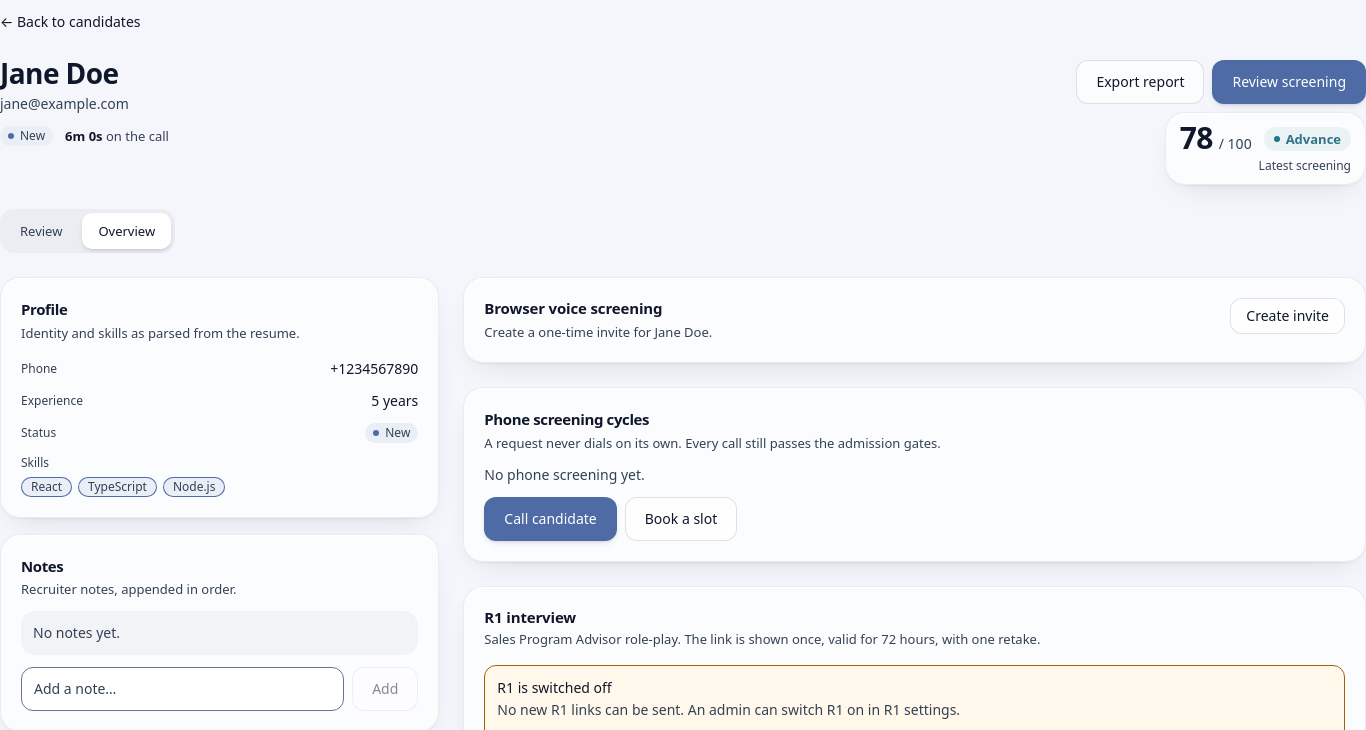
Test: CandidateDetailPage › C8: a same-role duplicate-application hold › a request answered duplicate_application shows recruiter copy, not the raw code
Check: the heading "Jane Doe" is shown, box x1=0 y1=54 x2=118 y2=92
What coordinates should you click on to do the following:
click the button "Call candidate"
I would click on:
 (550, 518)
Its box is x1=484 y1=496 x2=617 y2=540.
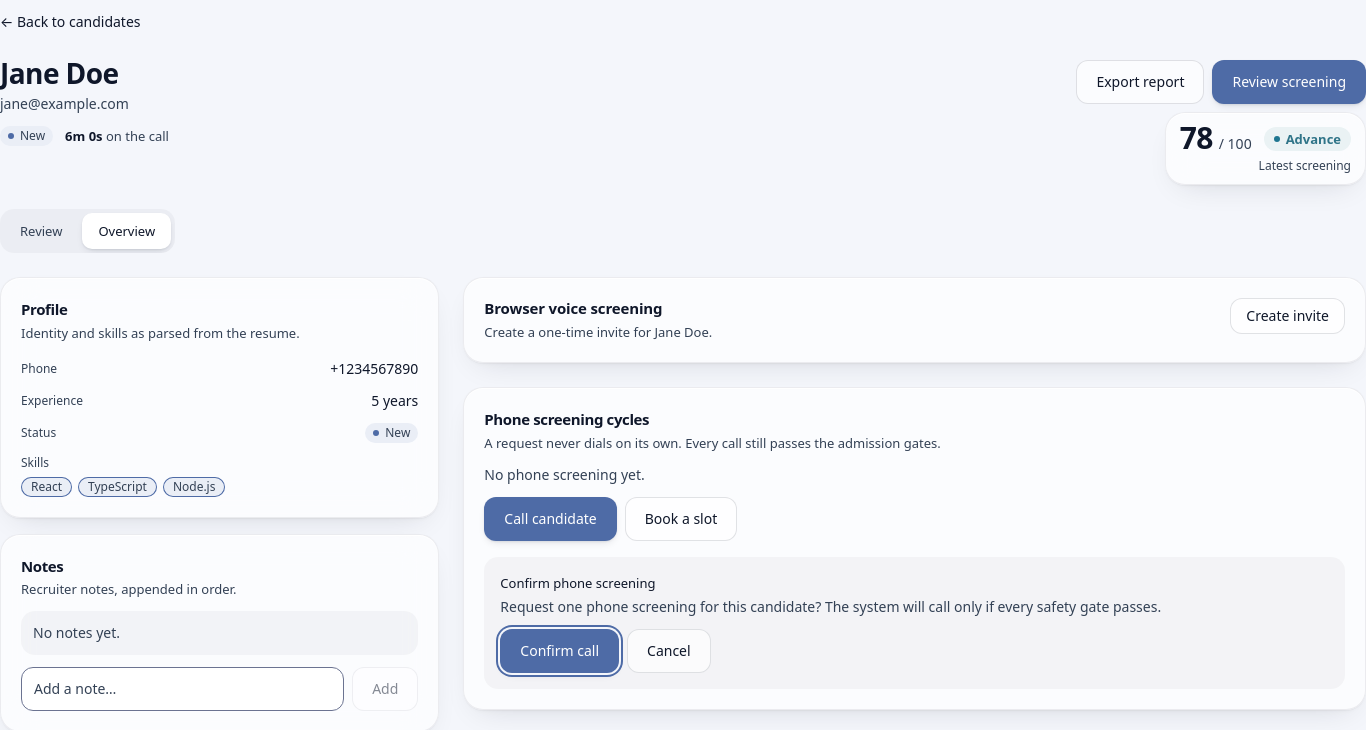
What coordinates should you click on to do the following:
click the button "Confirm call"
I would click on:
 (560, 650)
Its box is x1=500 y1=628 x2=619 y2=672.
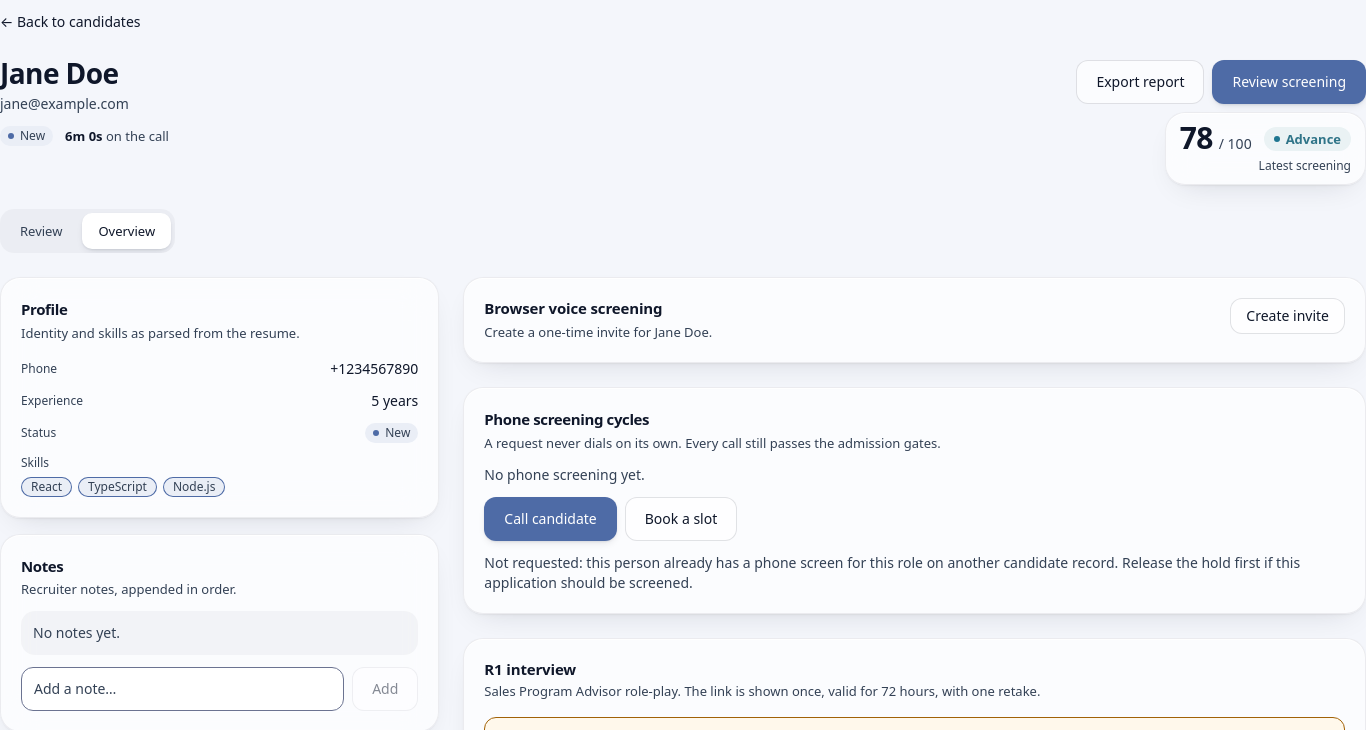
Check: the message does not show "duplicate_application", box x1=484 y1=552 x2=1345 y2=592
Check: the message shows "another candidate record", box x1=484 y1=552 x2=1300 y2=592
